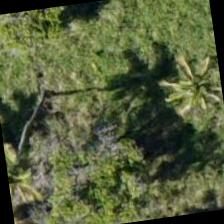Kelapa_Sawit: (134, 39, 223, 141), (1, 119, 60, 215)
